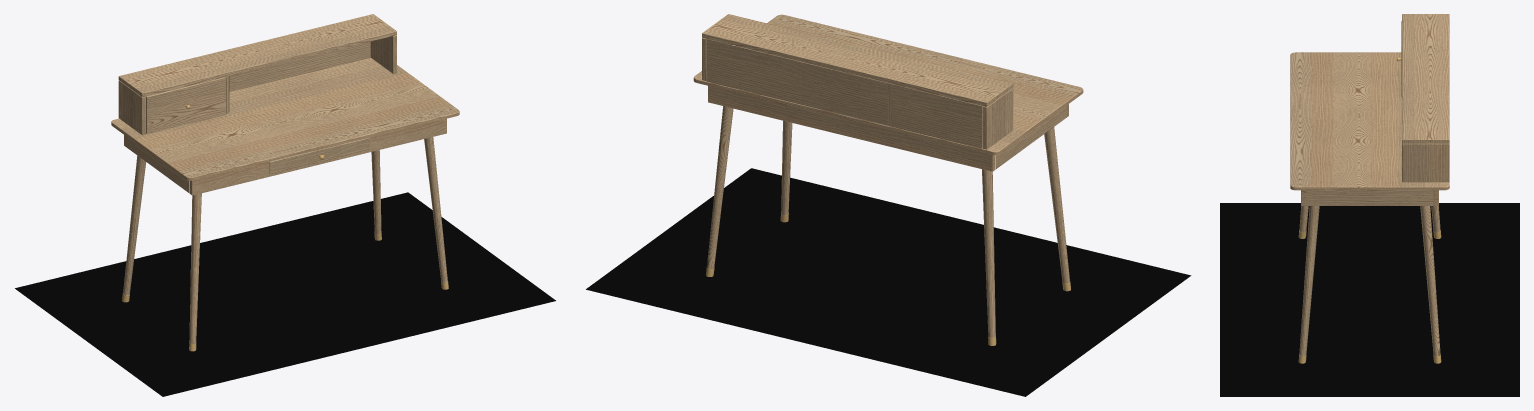
The model's file is desk.glb.
3 views of the same model, side by side, from view 1: azimuth 30°, elevation 25°; view 2: azimuth 150°, elevation 25°; view 3: azimuth 270°, elevation 25° (orthographic). The views are drawn at different scales.
Parts seen in each view (by area): view 1: desk_Shadow, desk_LOD0; view 2: desk_Shadow, desk_LOD0; view 3: desk_Shadow, desk_LOD0.
Part boxes in pixels (left/top/right/bottom): desk_Shadow: left=15, top=192, right=555, bottom=396; desk_LOD0: left=111, top=14, right=459, bottom=351; desk_Shadow: left=586, top=168, right=1191, bottom=396; desk_LOD0: left=693, top=14, right=1083, bottom=345; desk_Shadow: left=1220, top=203, right=1519, bottom=396; desk_LOD0: left=1290, top=14, right=1449, bottom=363.
Size of what is drawn, in the model's own units: 1.73 by 0.9294 by 1.13.
3 materials, 2 textured.
